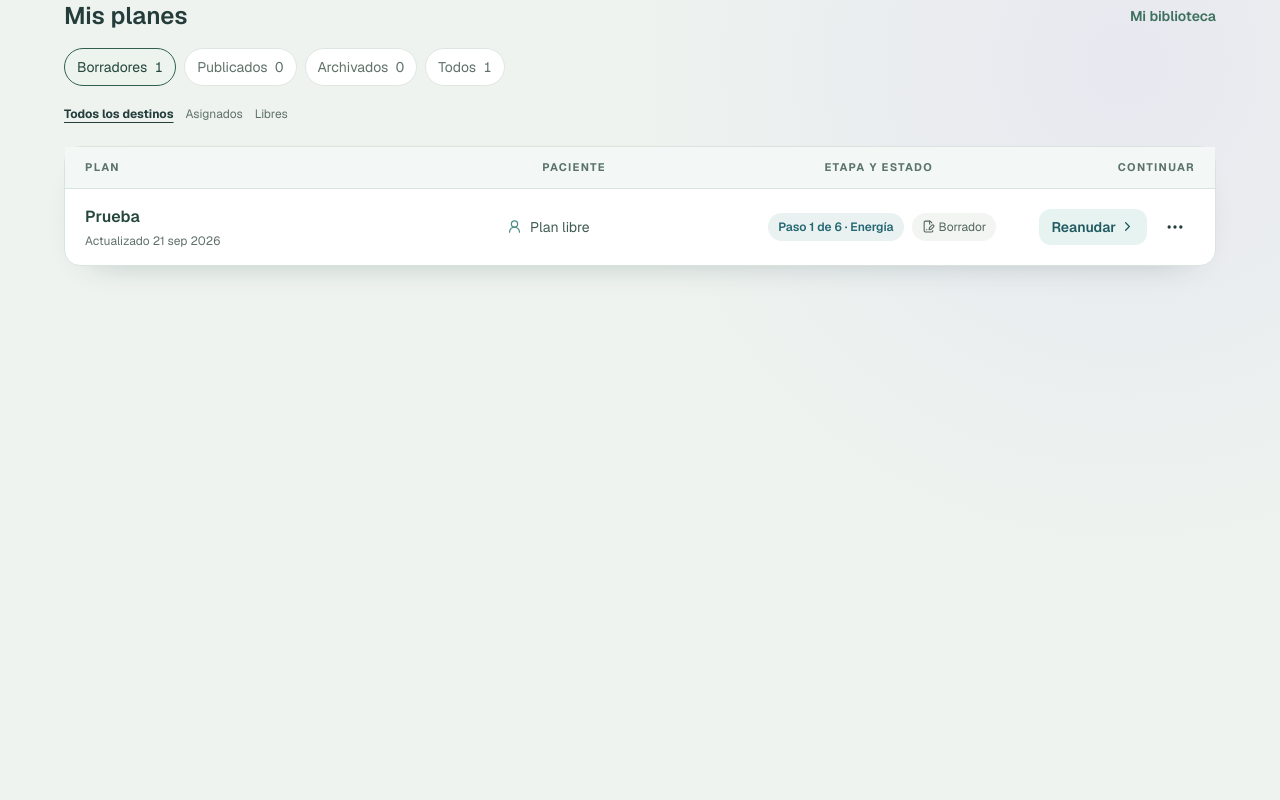
it: plan organization › deletes only after confirmation, assigned=false
Click the heading named "Acciones de Prueba" at (1175, 226), box x1=1165 y1=216 x2=1185 y2=236
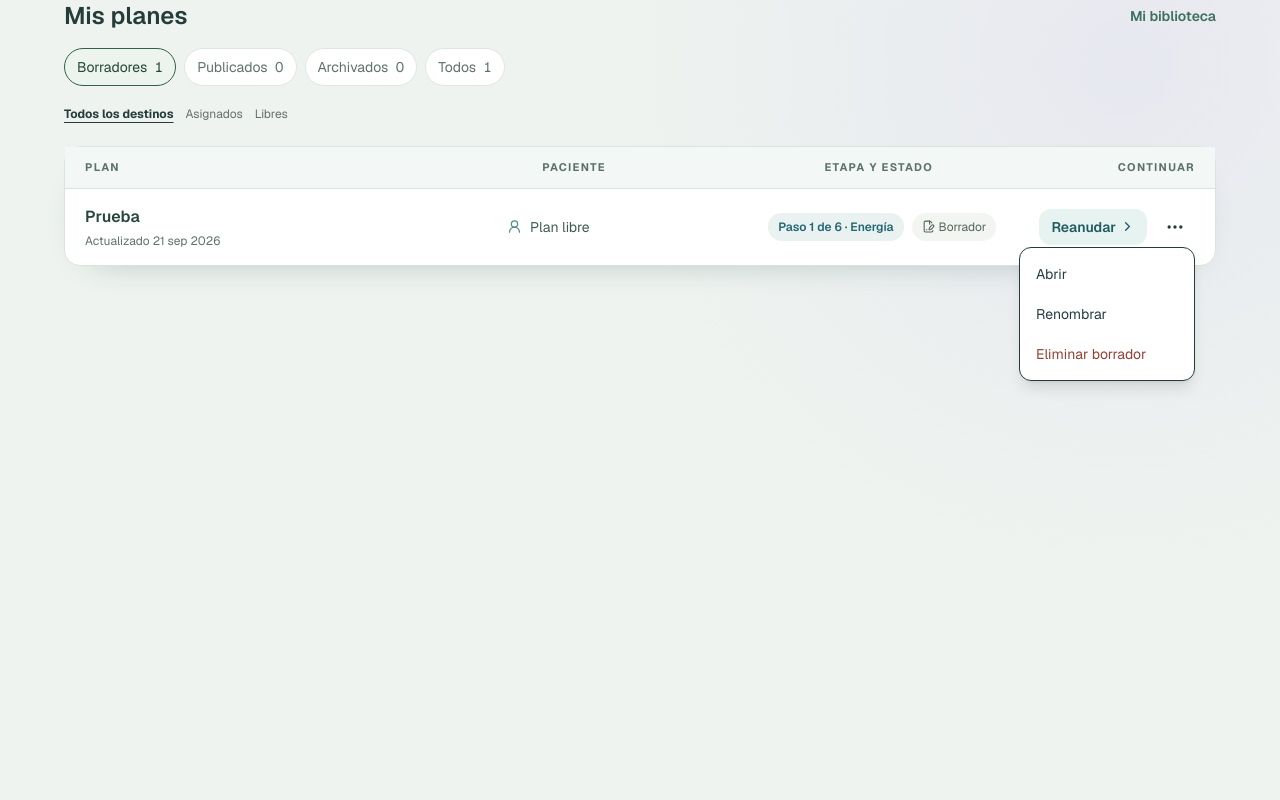
Click the button "Eliminar borrador" at (1107, 354), box x1=1028 y1=336 x2=1186 y2=372
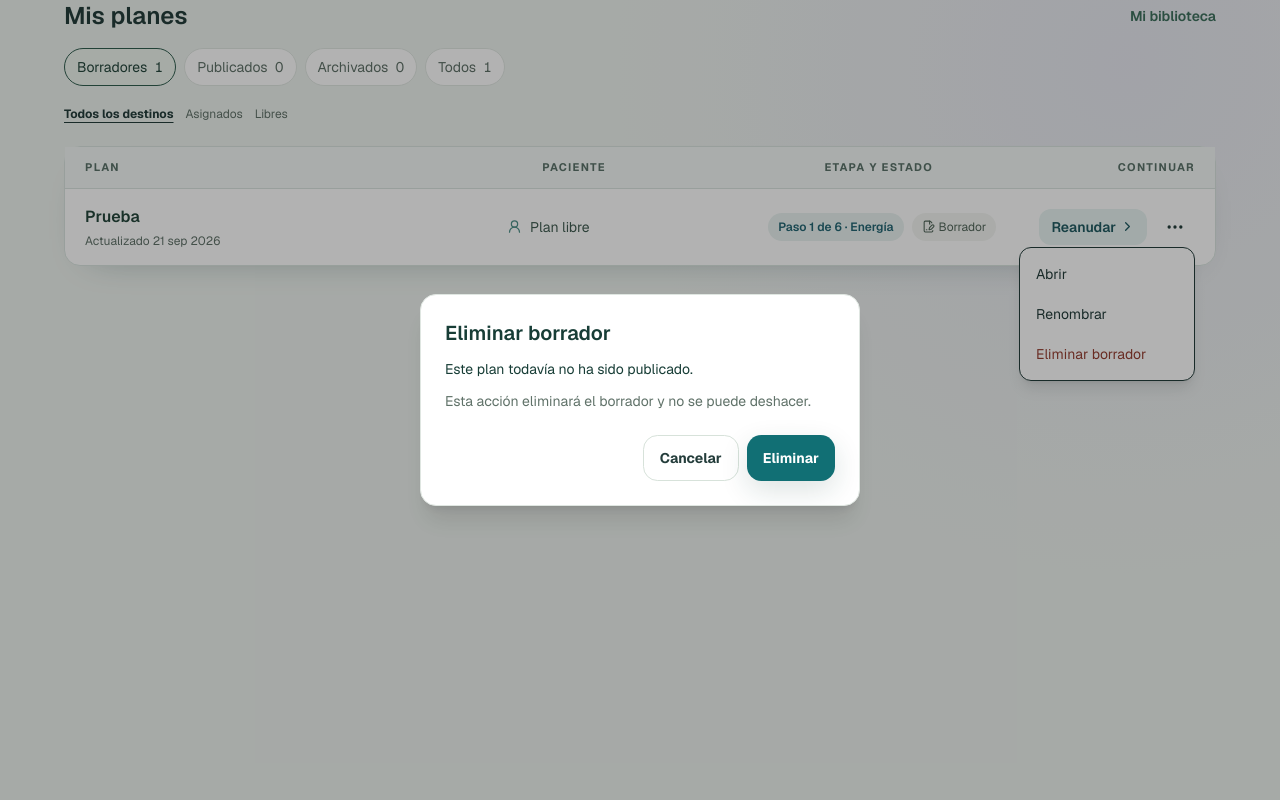
Now the dialog shows "todavía no ha sido publicado", box x1=445 y1=360 x2=693 y2=378
Click the button "Eliminar" at (791, 458), box x1=747 y1=435 x2=835 y2=481
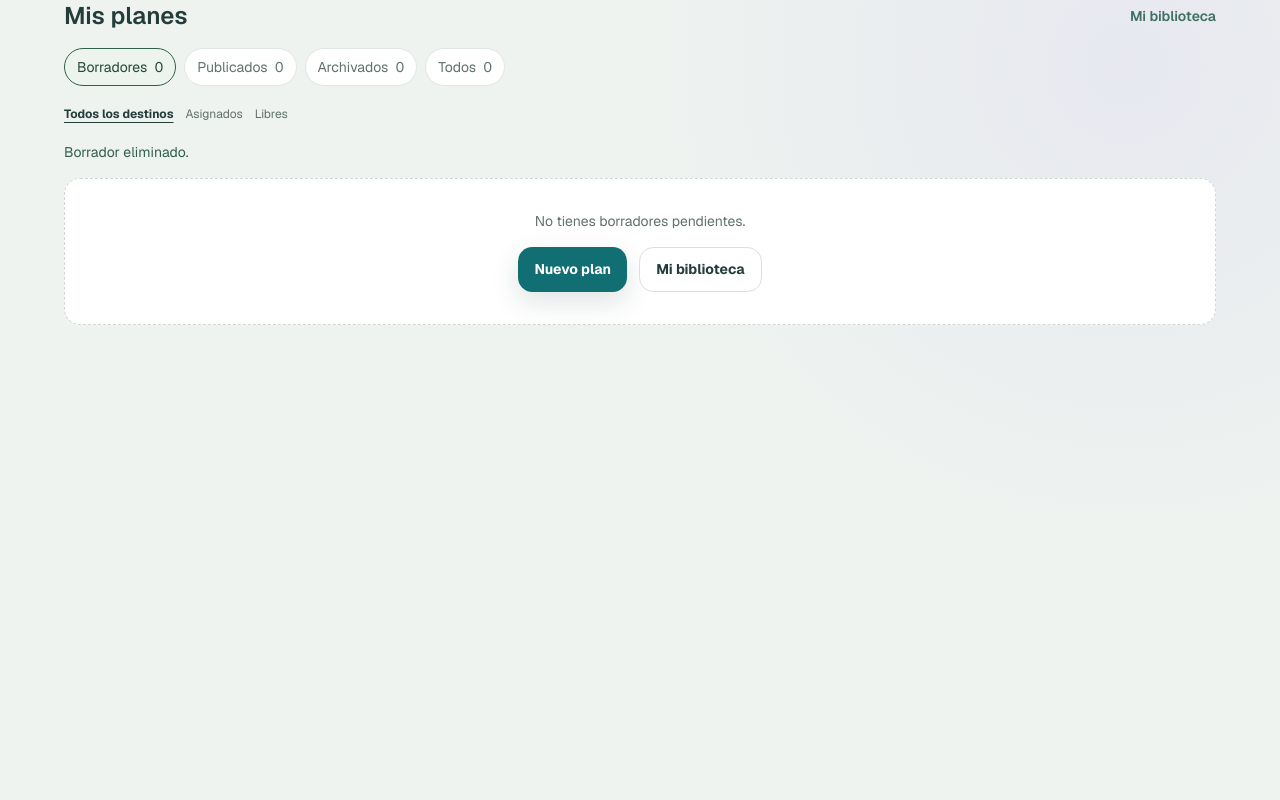
Now the link "Prueba" is gone
Now the text "No tienes borradores pendientes." is shown, box x1=535 y1=212 x2=745 y2=230
Now the button "Borradores 0" is shown, box x1=64 y1=48 x2=176 y2=86
